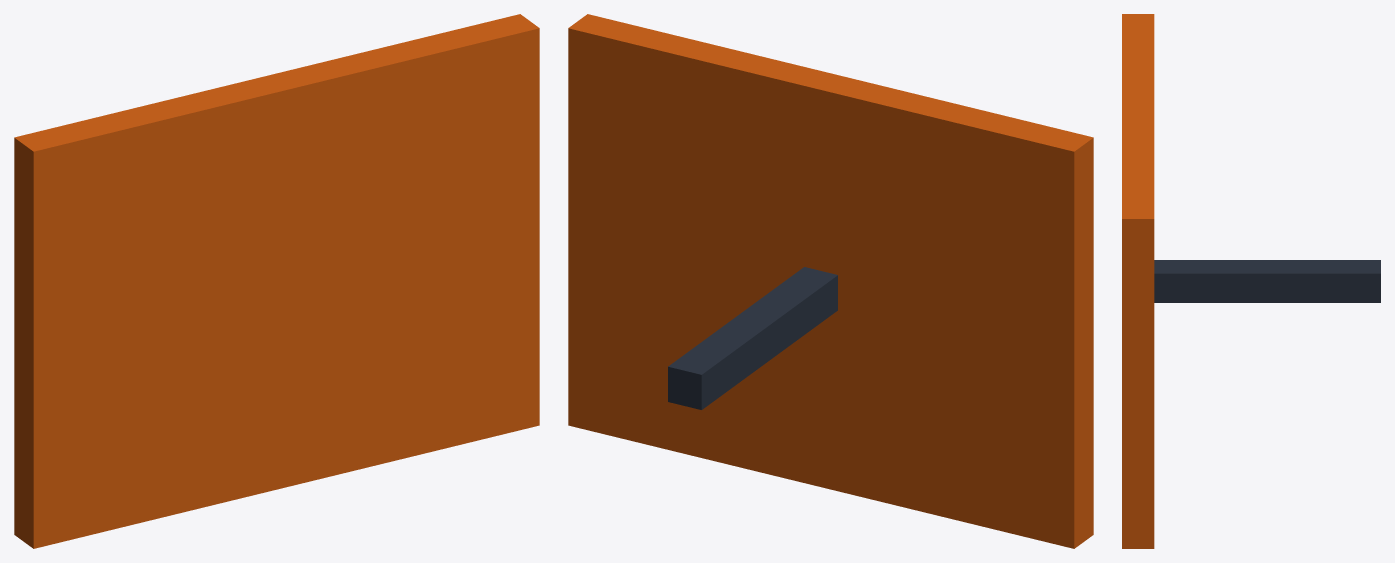
File: yard-safety-mirror-body.glb
The picture shows the model from 3 angles, left to right: view 1: azimuth 30°, elevation 25°; view 2: azimuth 150°, elevation 25°; view 3: azimuth 270°, elevation 25°; orthographic projection. The views are drawn at different scales.
Parts seen in each view (by area): view 1: Yard-safety-mirror-bodyBody; view 2: Yard-safety-mirror-bodyBody; view 3: Yard-safety-mirror-bodyBody.
Boxes of the visible parts, x1,y1,x2,y2 form: Yard-safety-mirror-bodyBody: [14, 14, 539, 548]; Yard-safety-mirror-bodyBody: [568, 14, 1093, 548]; Yard-safety-mirror-bodyBody: [1122, 14, 1380, 548].
Size of the model in its own units: 1.2 by 0.9 by 0.64.
